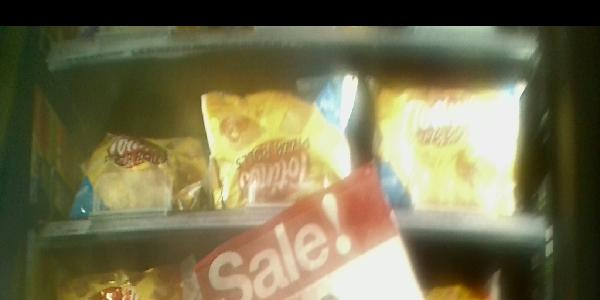icecream: (197, 71, 368, 213), (371, 69, 525, 217), (66, 130, 210, 226)
